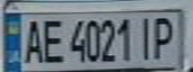0: (84, 16, 103, 63)
1: (115, 15, 136, 61)
2: (100, 16, 118, 63)
4: (63, 16, 87, 63)
A: (18, 16, 45, 64)
E: (39, 16, 66, 64)
I: (133, 14, 157, 61)
P: (148, 12, 178, 61)
